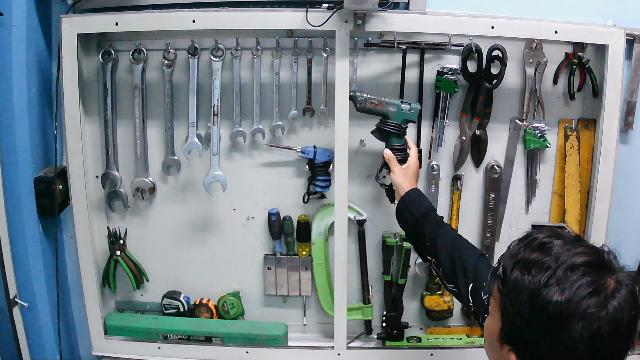gun_lem: (349, 85, 421, 208)
